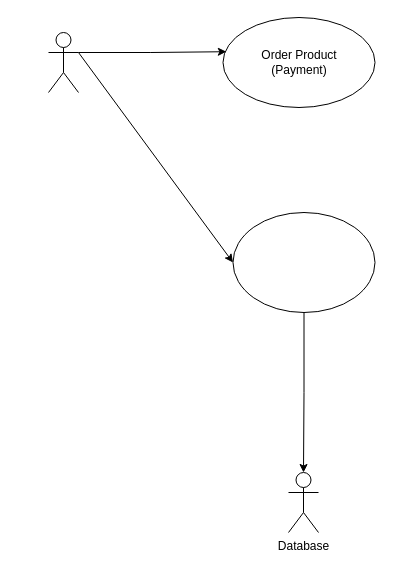
Some shapes in this 393 by 571 pixel diagram are drawn without their labels. Each missing label, with the centre of its shape:
Backend Application (Order Product): the point at 303,262
Registered Users: the point at 63,62
